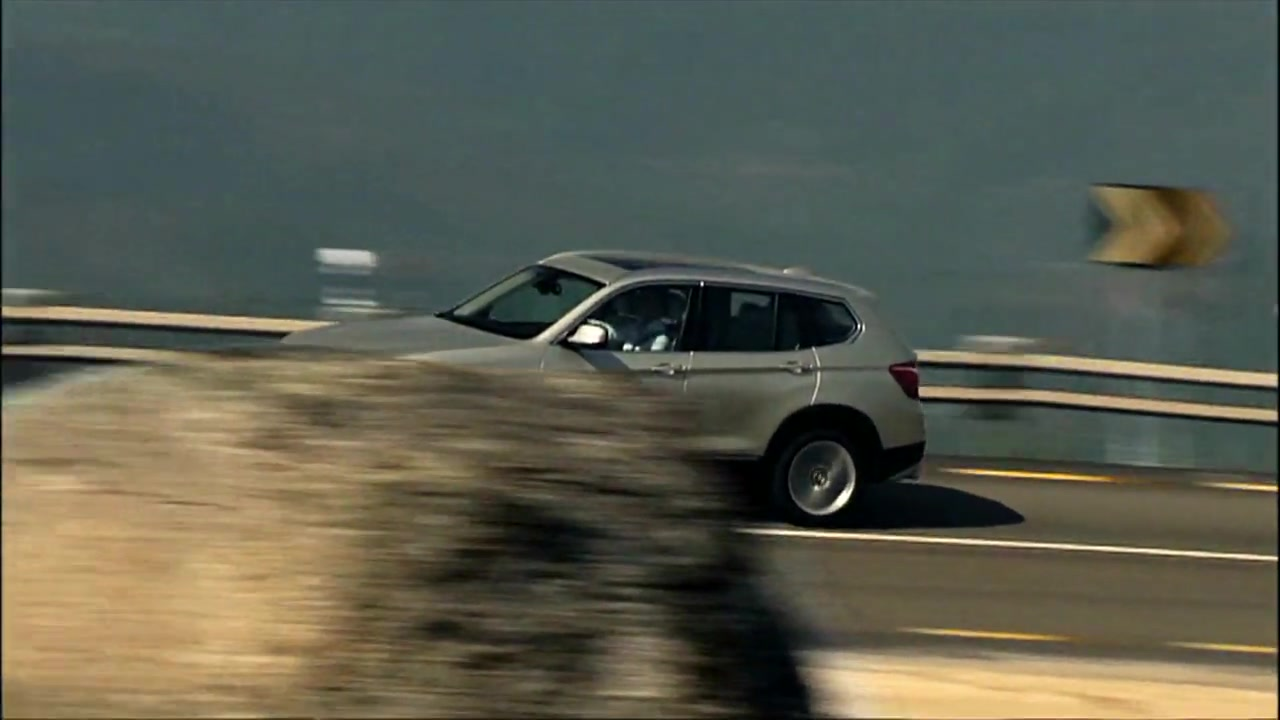car: (272, 241, 932, 529)
